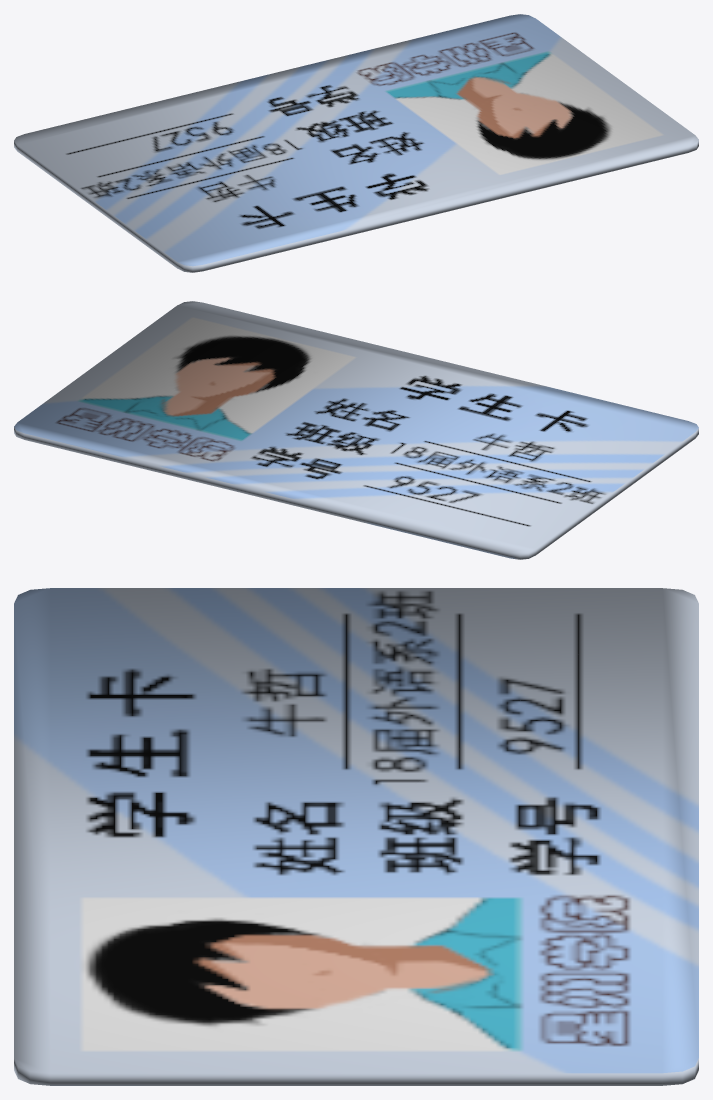
The model's file is Weapon_XueShengKa_fbx.FBX.
3 renders of one model, top to bottom at view 1: azimuth 30°, elevation 25°; view 2: azimuth 150°, elevation 25°; view 3: azimuth 270°, elevation 25°, orthographic. The views are drawn at different scales.
Parts seen in each view (by area): view 1: Xueshengka; view 2: Xueshengka; view 3: Xueshengka.
Boxes of the visible parts, left/top/right/bottom form: Xueshengka: left=14, top=14, right=698, bottom=272; Xueshengka: left=14, top=301, right=698, bottom=559; Xueshengka: left=14, top=588, right=698, bottom=1085.
Size of the model in its own units: 0.0746 by 0.000905 by 0.0445.
